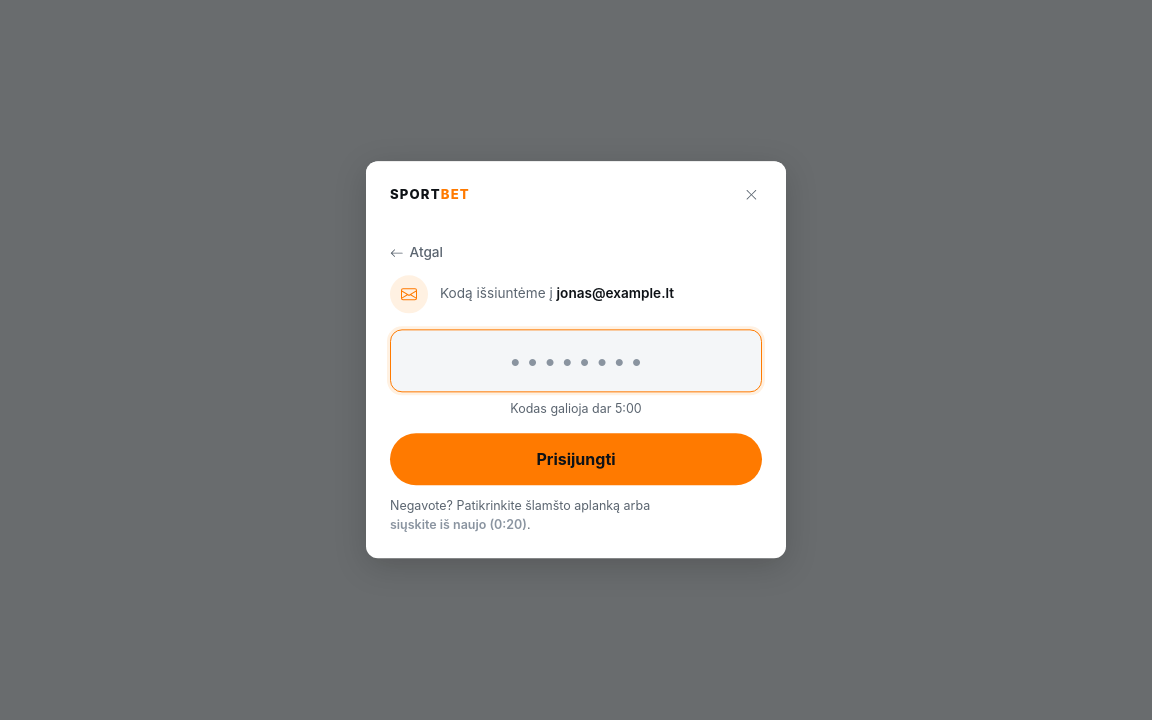
Test: the code step › sends the code typed, and shows the one answer to a wrong one
In the field named "8 skaitmenų kodas": (576, 361) [390,329,762,392], type "01234567"
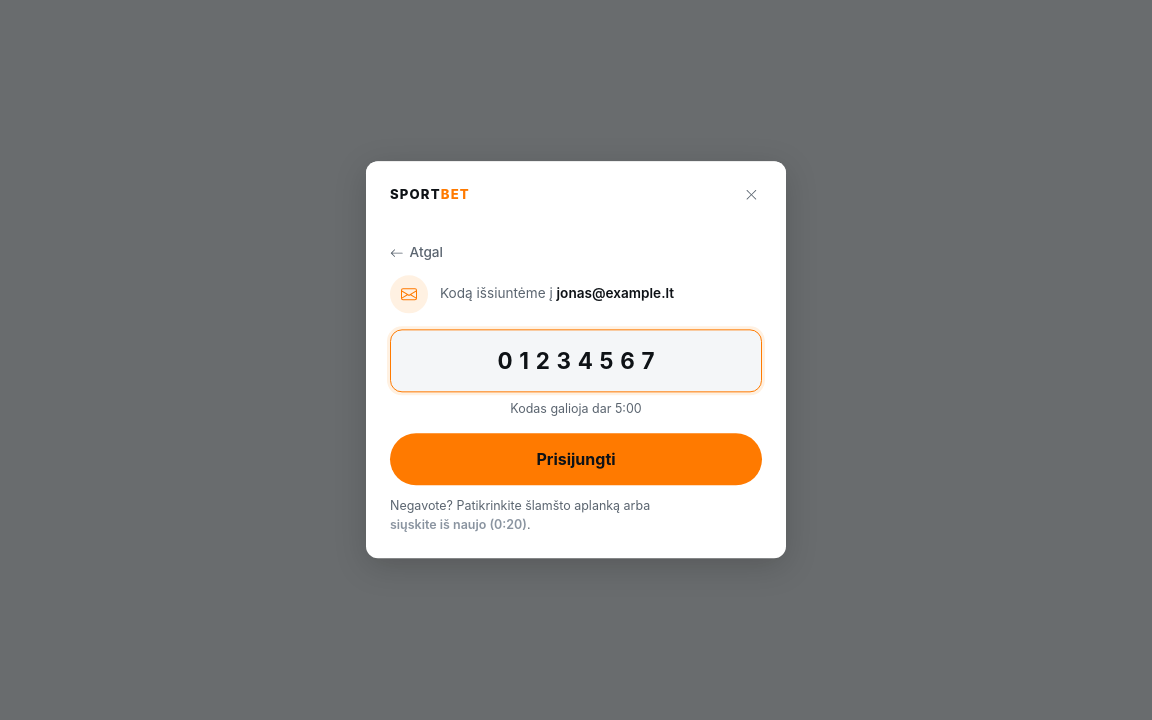
Click the button "Prisijungti": click(576, 459) [390,433,762,485]
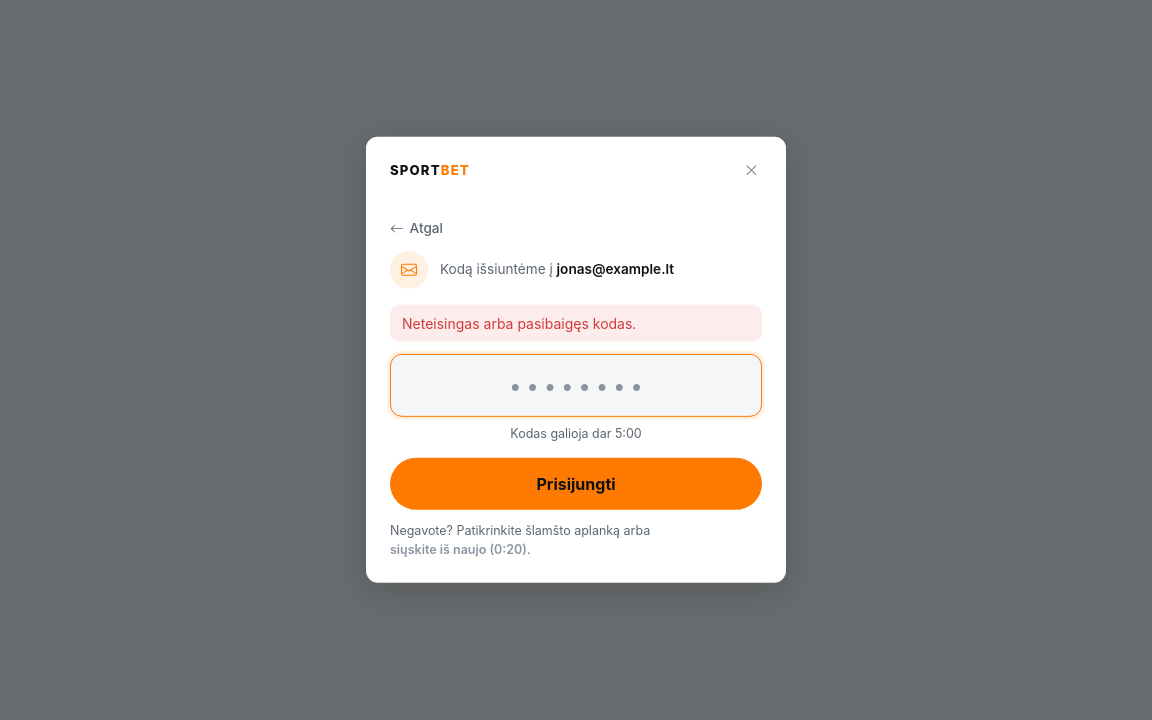
Expected: the message reads "Neteisingas arba pasibaigęs kodas.", [402,314,636,331]
